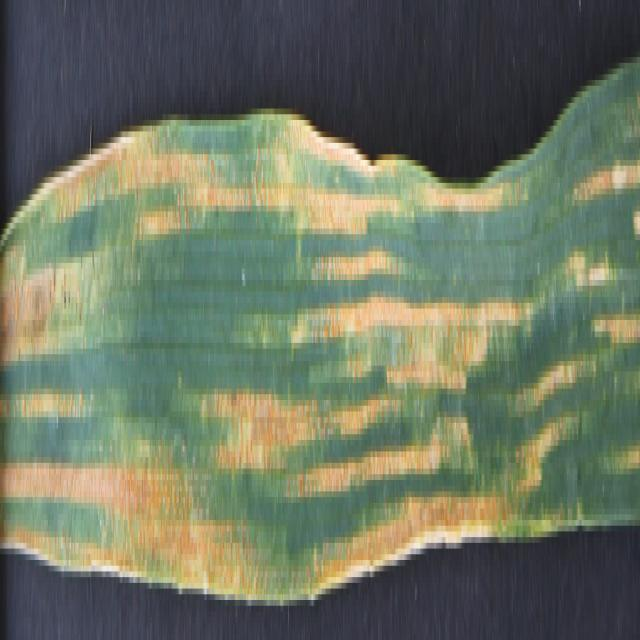leaf rust: (1, 91, 638, 640)
